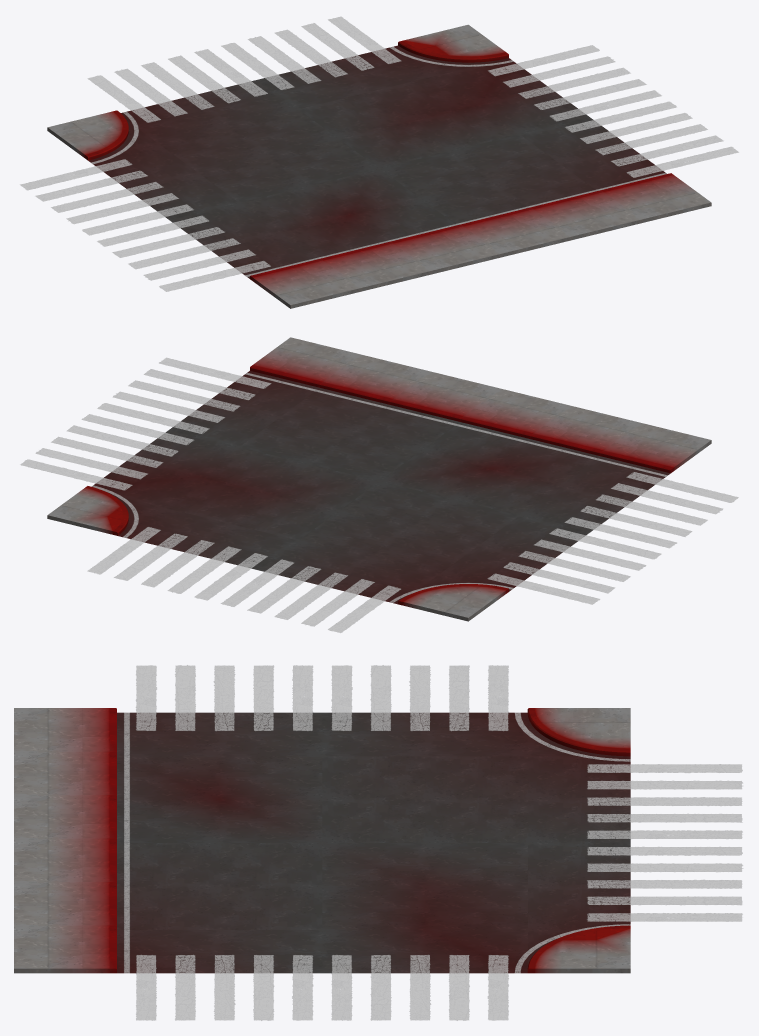
The model's file is Street_TIntersection.gltf.
3 views of the same model, one above another, from view 1: azimuth 30°, elevation 25°; view 2: azimuth 150°, elevation 25°; view 3: azimuth 270°, elevation 25° (orthographic). The views are drawn at different scales.
Parts seen in each view (by area): view 1: Street_TIntersection; view 2: Street_TIntersection; view 3: Street_TIntersection.
Part boxes in pixels (x1=…): Street_TIntersection: x1=20, y1=16, x2=738, y2=308; Street_TIntersection: x1=20, y1=337, x2=738, y2=632; Street_TIntersection: x1=14, y1=665, x2=742, y2=1020.
Size of the model in its own units: 24.67 by 0.15 by 21.33.
Materials: 3 (3 with a texture image).
